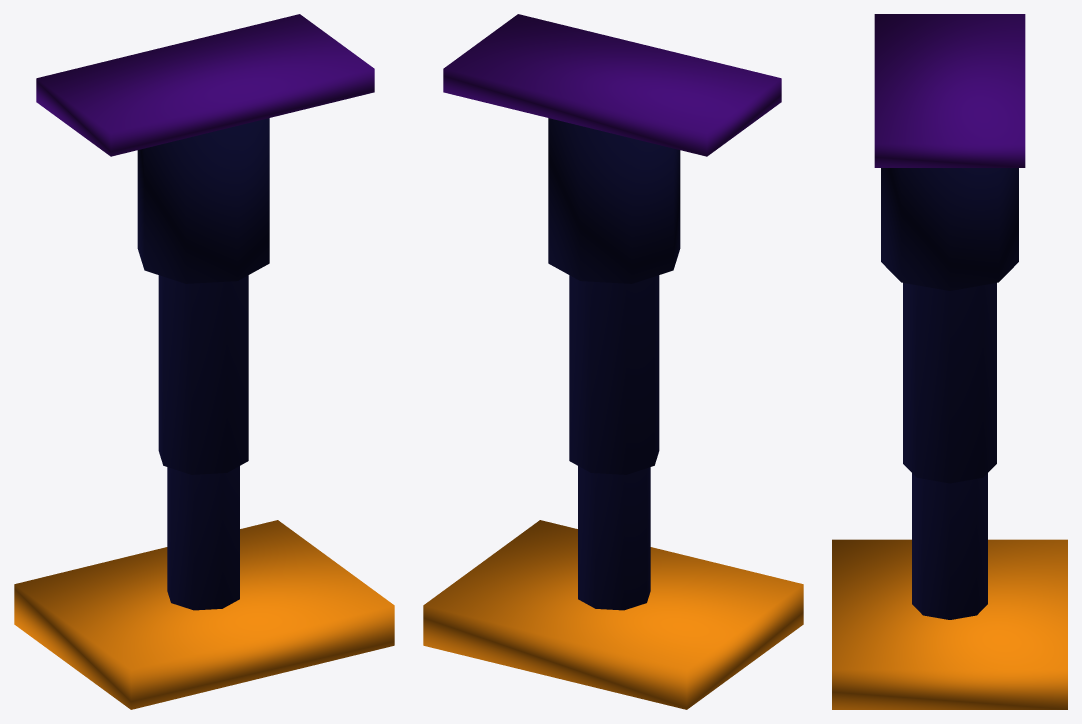
File: Press_02.fbx
The picture shows the model from 3 angles, left to right: view 1: azimuth 30°, elevation 25°; view 2: azimuth 150°, elevation 25°; view 3: azimuth 270°, elevation 25°; orthographic projection.
Visible parts, largest first — view 1: Cube.027; view 2: Cube.027; view 3: Cube.027.
Part boxes in pixels (x1,y1,x2,y2): Cube.027: (14,14,394,709); Cube.027: (423,14,803,709); Cube.027: (832,14,1067,709).
Bounding box in the file's own units: 80.49 × 163 × 61.59.
